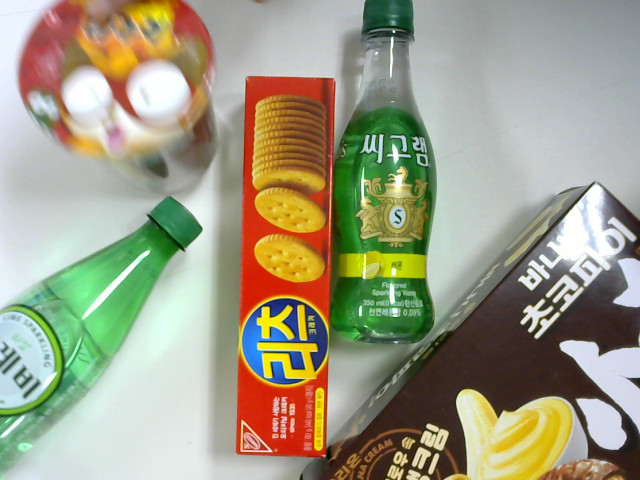Choco_Pie_Banana: (285, 173, 640, 480)
Raccoon: (12, 1, 224, 202)
Ritz_Cracker: (230, 68, 341, 462)
Seagram_Lemon_Carbonated_Water: (323, 1, 445, 351)
Treviraim_500ml: (1, 192, 213, 471)
